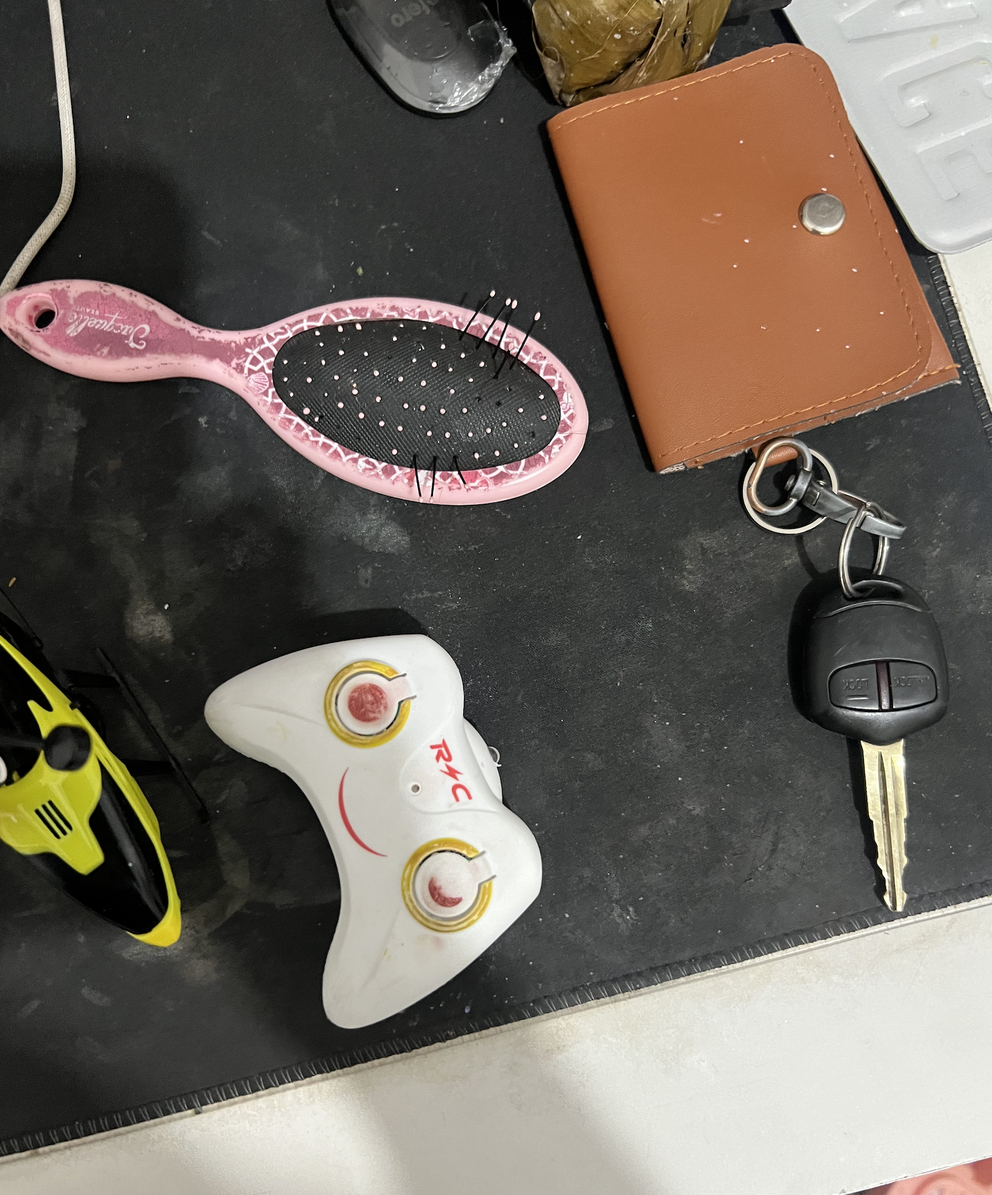gamepad: (187, 562, 597, 1059)
helikopter: (0, 603, 195, 1023)
jungkat: (6, 239, 632, 520)
kunci: (748, 523, 992, 969)
